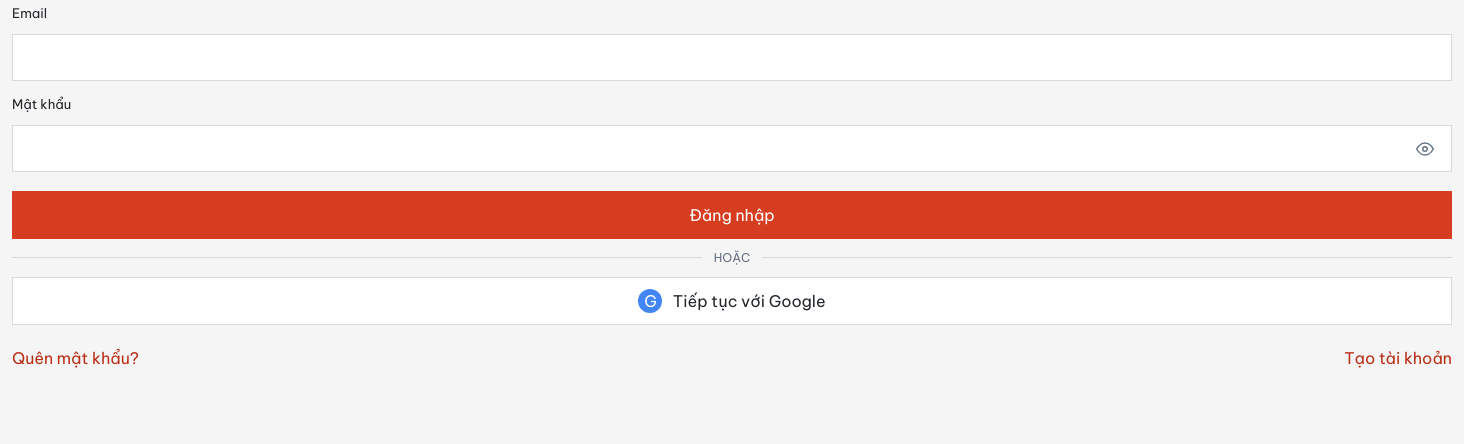
Test case: account forms › shows the paired account and shop feedback for a verified suspended login
Type "seller@example.com" into the field labelled "Email". click: (732, 58)
box: [12,34,1452,81]
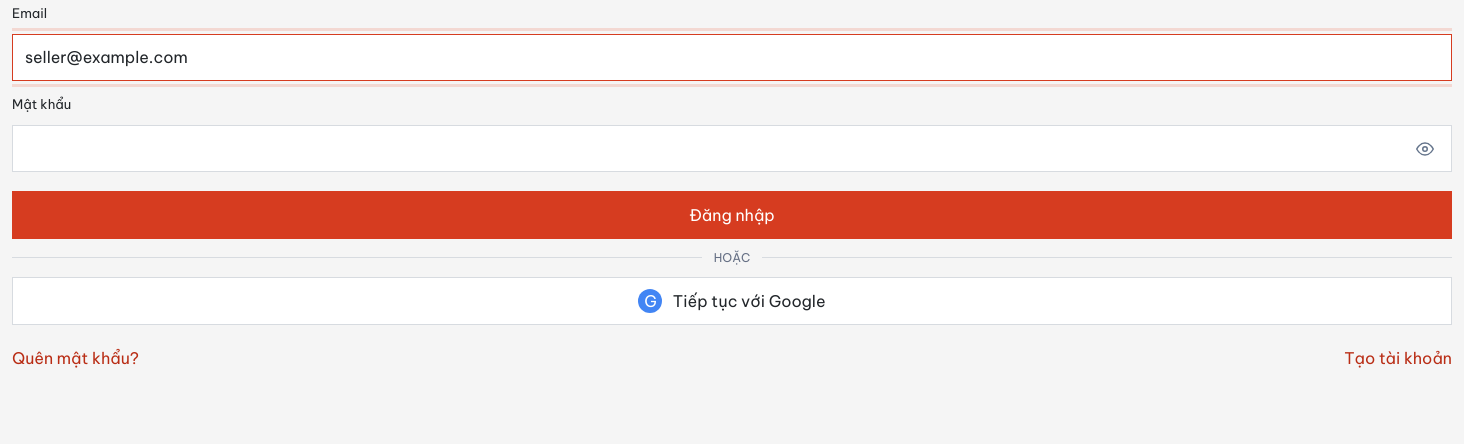
Type "correct passphrase" into the password field labelled "Mật khẩu". click: (732, 149)
box: [12,125,1452,172]
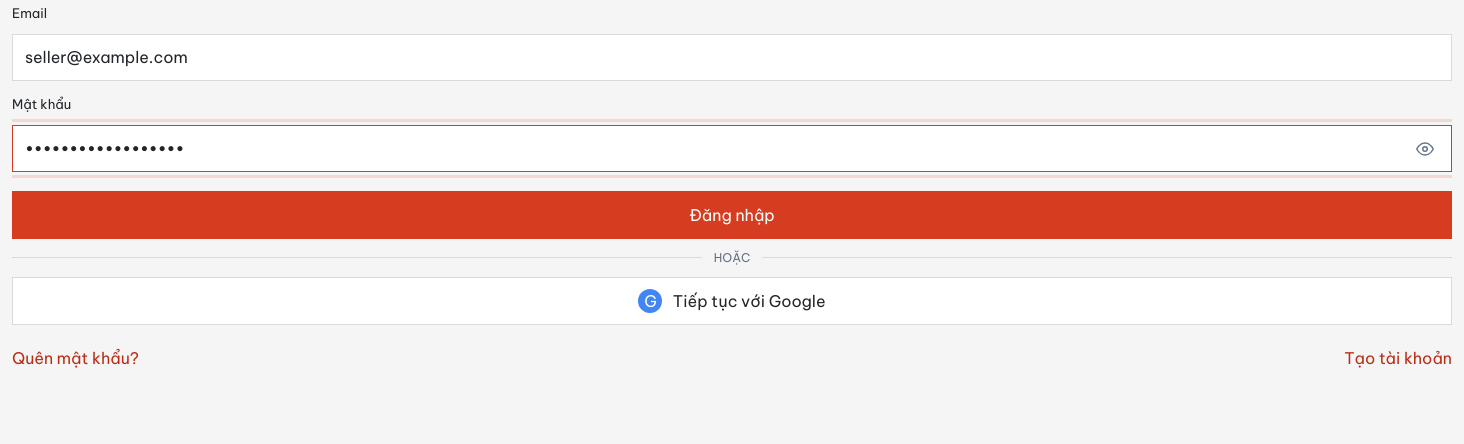
Click the button "Đăng nhập". click: (732, 214)
box: [12,190,1452,238]
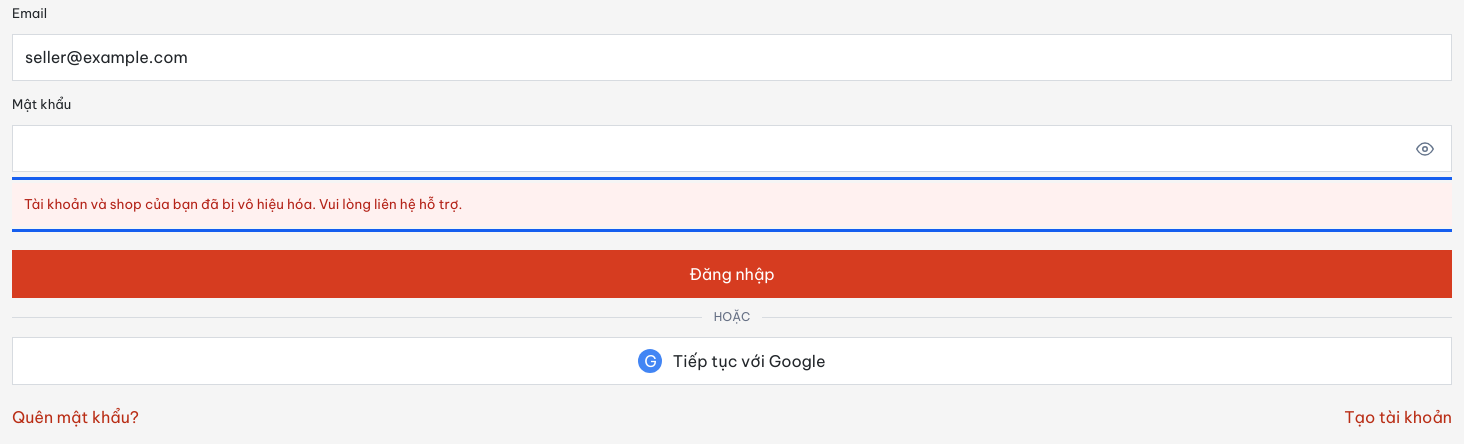
Expected: the message shows "Tài khoản và shop của bạn đã bị vô hiệu hóa", [24,196,462,212]
